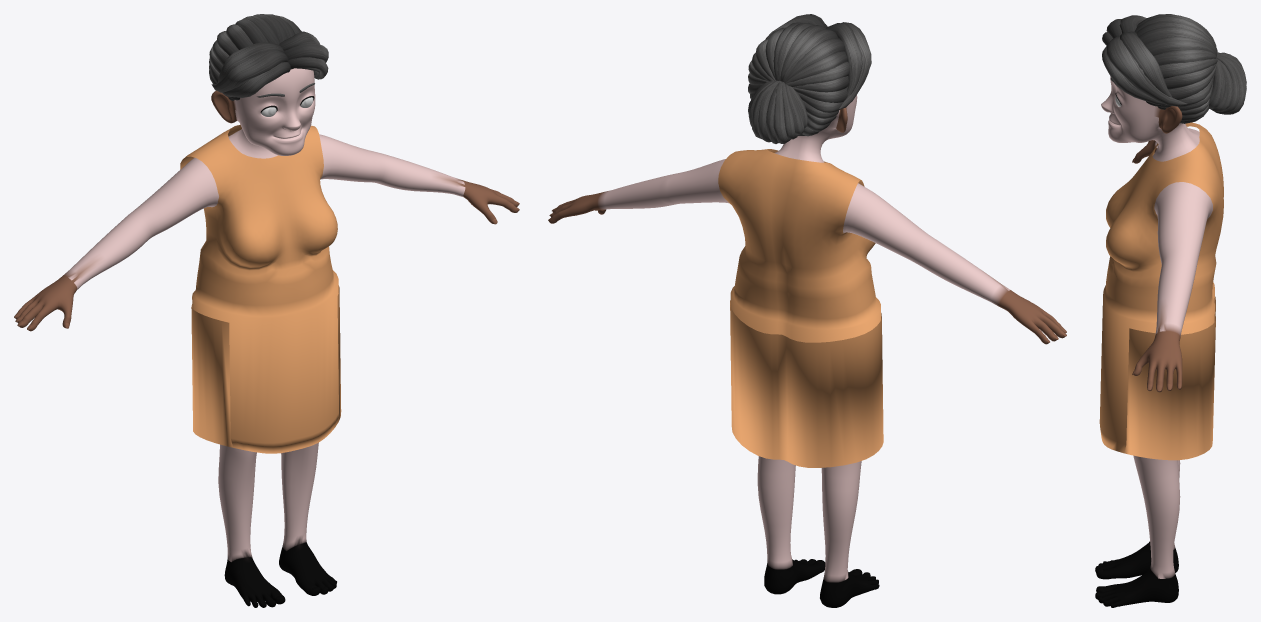
Rendered from Elderly Lori.glb.
The picture shows the model from 3 angles, left to right: view 1: azimuth 30°, elevation 25°; view 2: azimuth 150°, elevation 25°; view 3: azimuth 270°, elevation 25°; orthographic projection. The views are drawn at different scales.
Parts seen in each view (by area): view 1: GEO-body.001, GEO-body, GEO-hair; view 2: GEO-body.001, GEO-body, GEO-hair; view 3: GEO-body.001, GEO-body, GEO-hair.
Part boxes in pixels (x1,y1,x2,y2): GEO-body.001: (180,124,341,453); GEO-body: (14,68,519,607); GEO-hair: (209,14,328,100); GEO-body.001: (718,149,883,467); GEO-body: (548,95,1066,607); GEO-hair: (748,14,871,143); GEO-body.001: (1099,122,1223,460); GEO-body: (1095,76,1212,607); GEO-hair: (1102,14,1246,123).
Size of the model in its own units: 1.54 by 1.64 by 0.3959.
6 materials, 3 textured.
